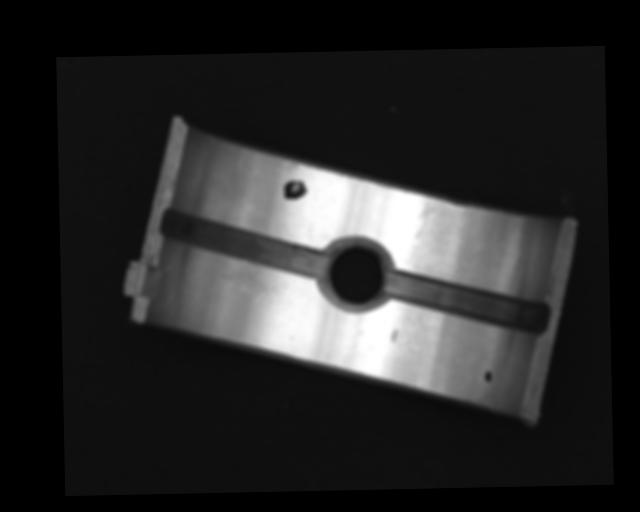blot: (282, 180, 309, 200), (483, 369, 493, 383)
bruise: (391, 327, 398, 342)
gap: (161, 207, 326, 283), (386, 270, 548, 336)
hole: (318, 239, 394, 310)
nick: (413, 196, 435, 240)
scratch: (214, 266, 279, 305)
